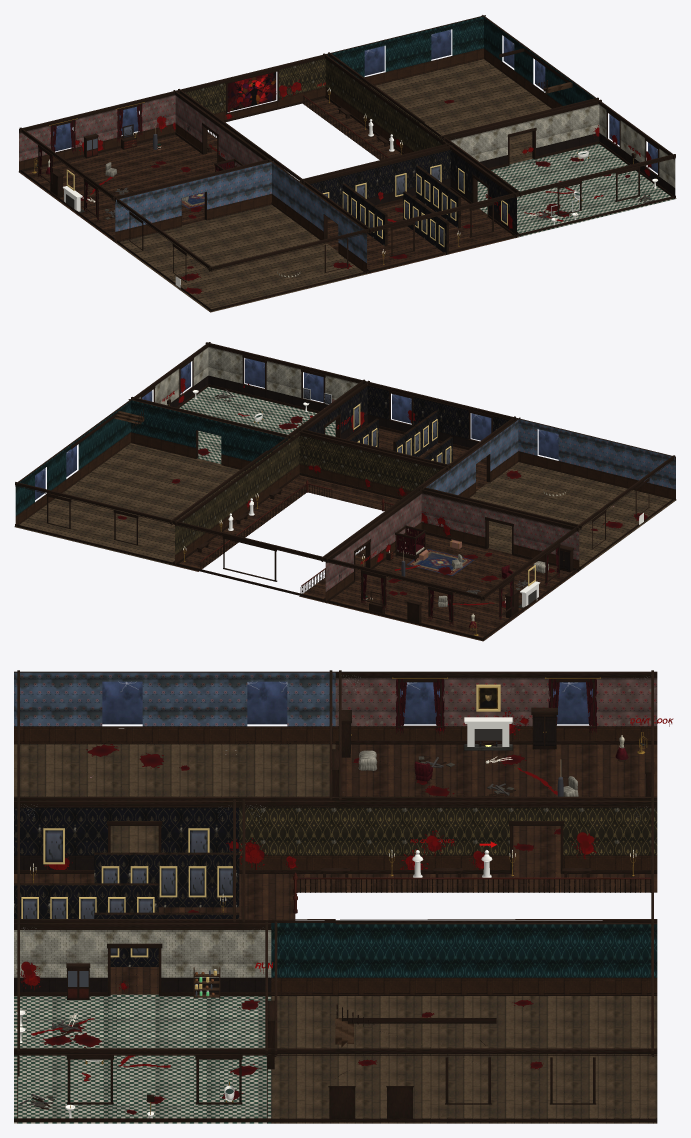
Rendered from house_upper_v15.glb.
The picture shows the model from 3 angles, top to bottom: view 1: azimuth 30°, elevation 25°; view 2: azimuth 150°, elevation 25°; view 3: azimuth 270°, elevation 25°; orthographic projection. The views are drawn at different scales.
Visible parts, largest first — view 1: house_upper; view 2: house_upper; view 3: house_upper.
Part boxes in pixels (x1,y1,x2,y2): house_upper: (18, 15, 676, 312); house_upper: (14, 342, 676, 641); house_upper: (14, 670, 673, 1123).
Bounding box in the file's own units: 57.32 × 6.88 × 41.22.
71 materials, 54 textured.
